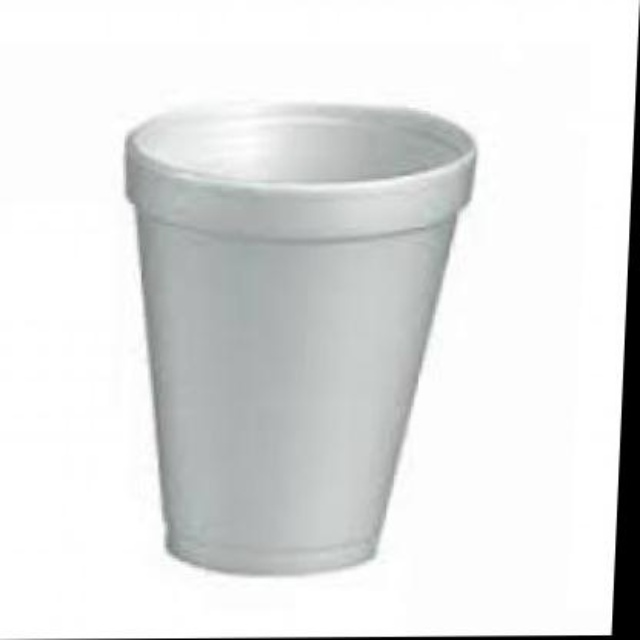trash: (126, 103, 474, 572)
